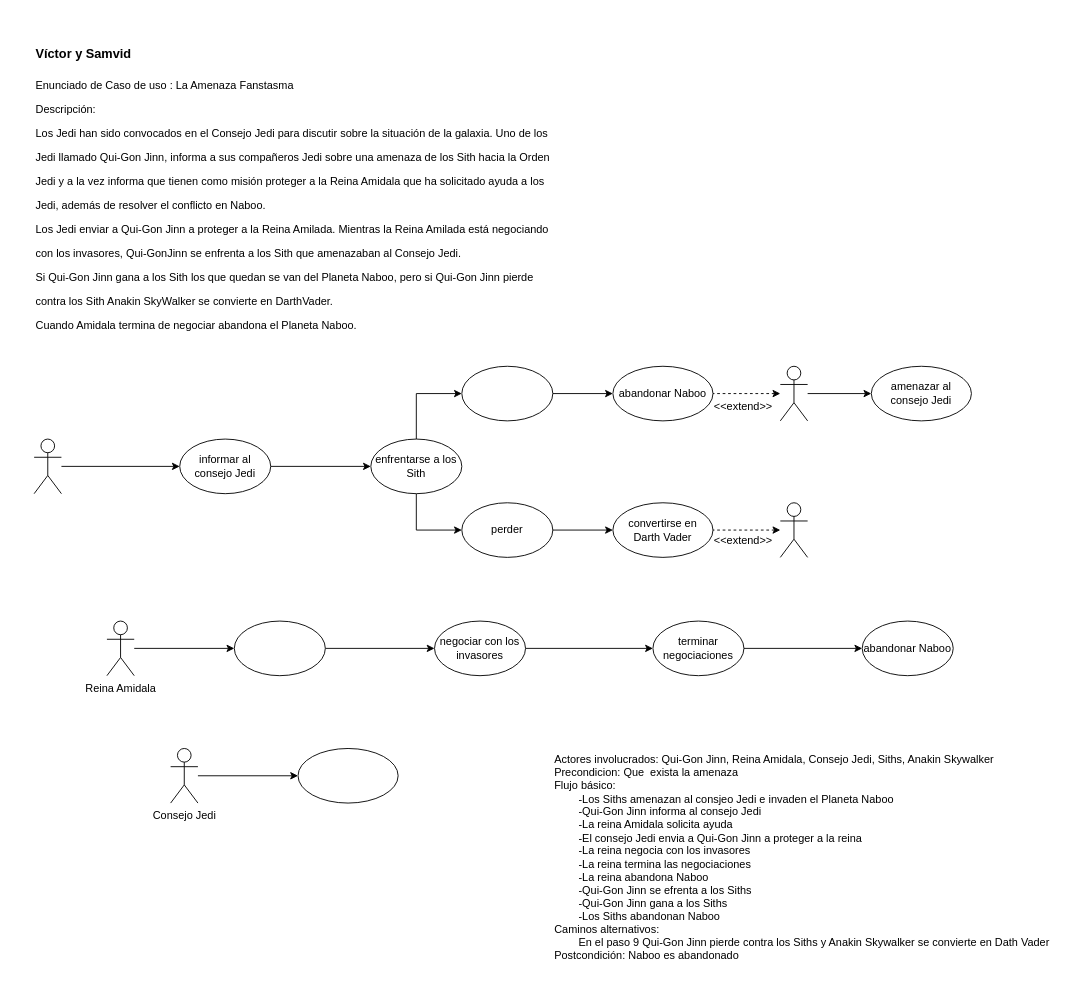
Image size: 1087x982. Some labels were removed from this diagram. The shapes that lost their labels are listed below. From the top down, each one's box as (x1, y1, x2, y2) in pixels, then its label:
(461, 365, 553, 421): ganar
(779, 365, 808, 421): Siths
(33, 438, 61, 494): Qui-Gon Jinn
(779, 502, 808, 557): Anakin Skywalker
(233, 620, 325, 676): solicitar ayuda
(297, 748, 398, 803): enviar a Qui-Gon a proteger a Amidala
